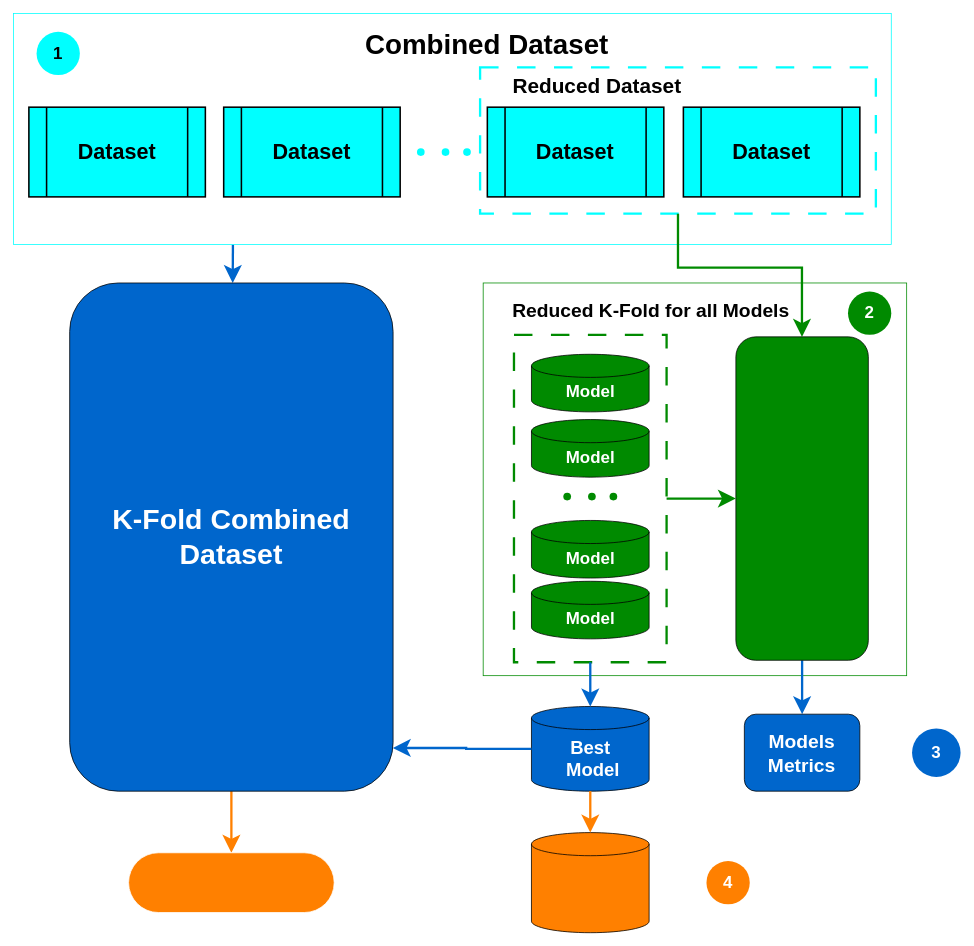
The diagram is 974 pixels wide and 946 high, and some of its shapes have lost their labels. The shapes that lost their labels are listed below. From the top down, each one's centre as x and y in pixels, then its label:
At point (801, 498): "K-Fold Reduced Dataset".
At point (231, 882): "Metrics Best Model Combined Dataset".
At point (590, 882): "Trained Model".
